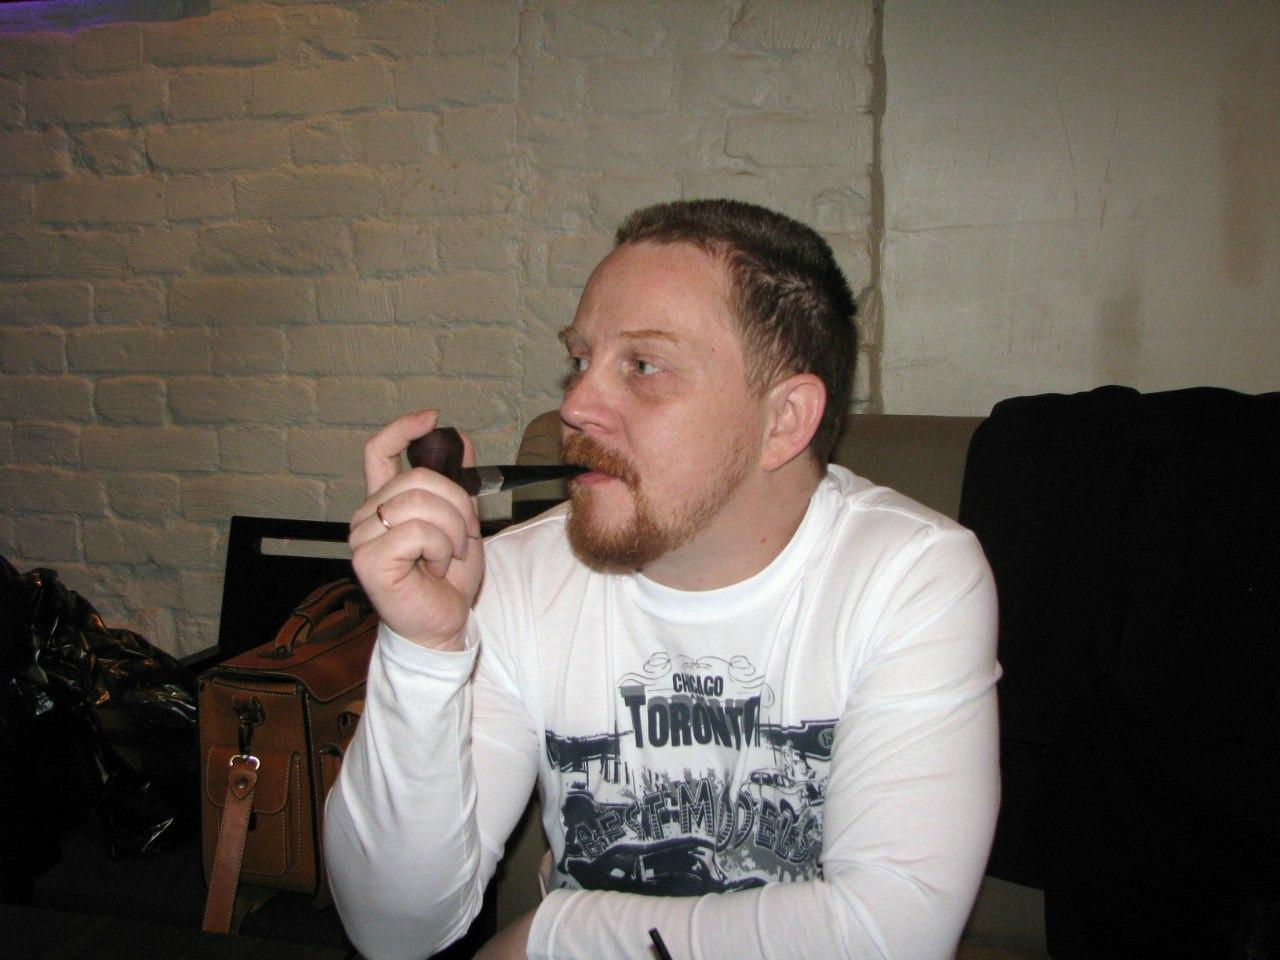trubka: (405, 427, 586, 496)
